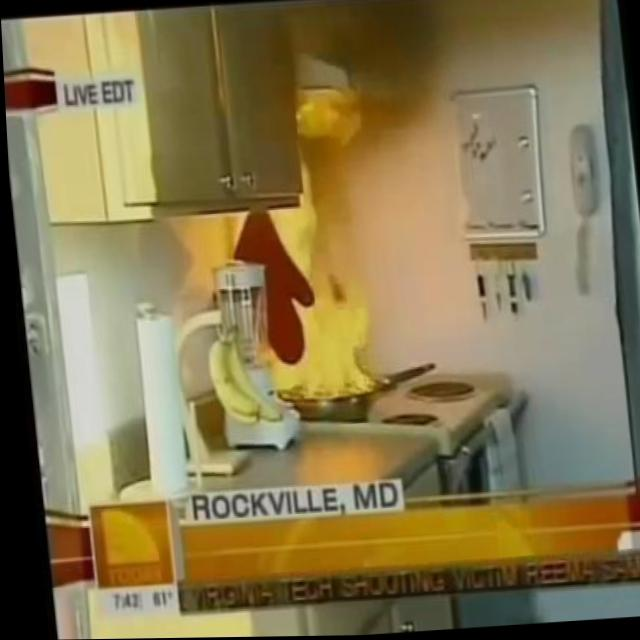fire: (216, 85, 384, 407)
